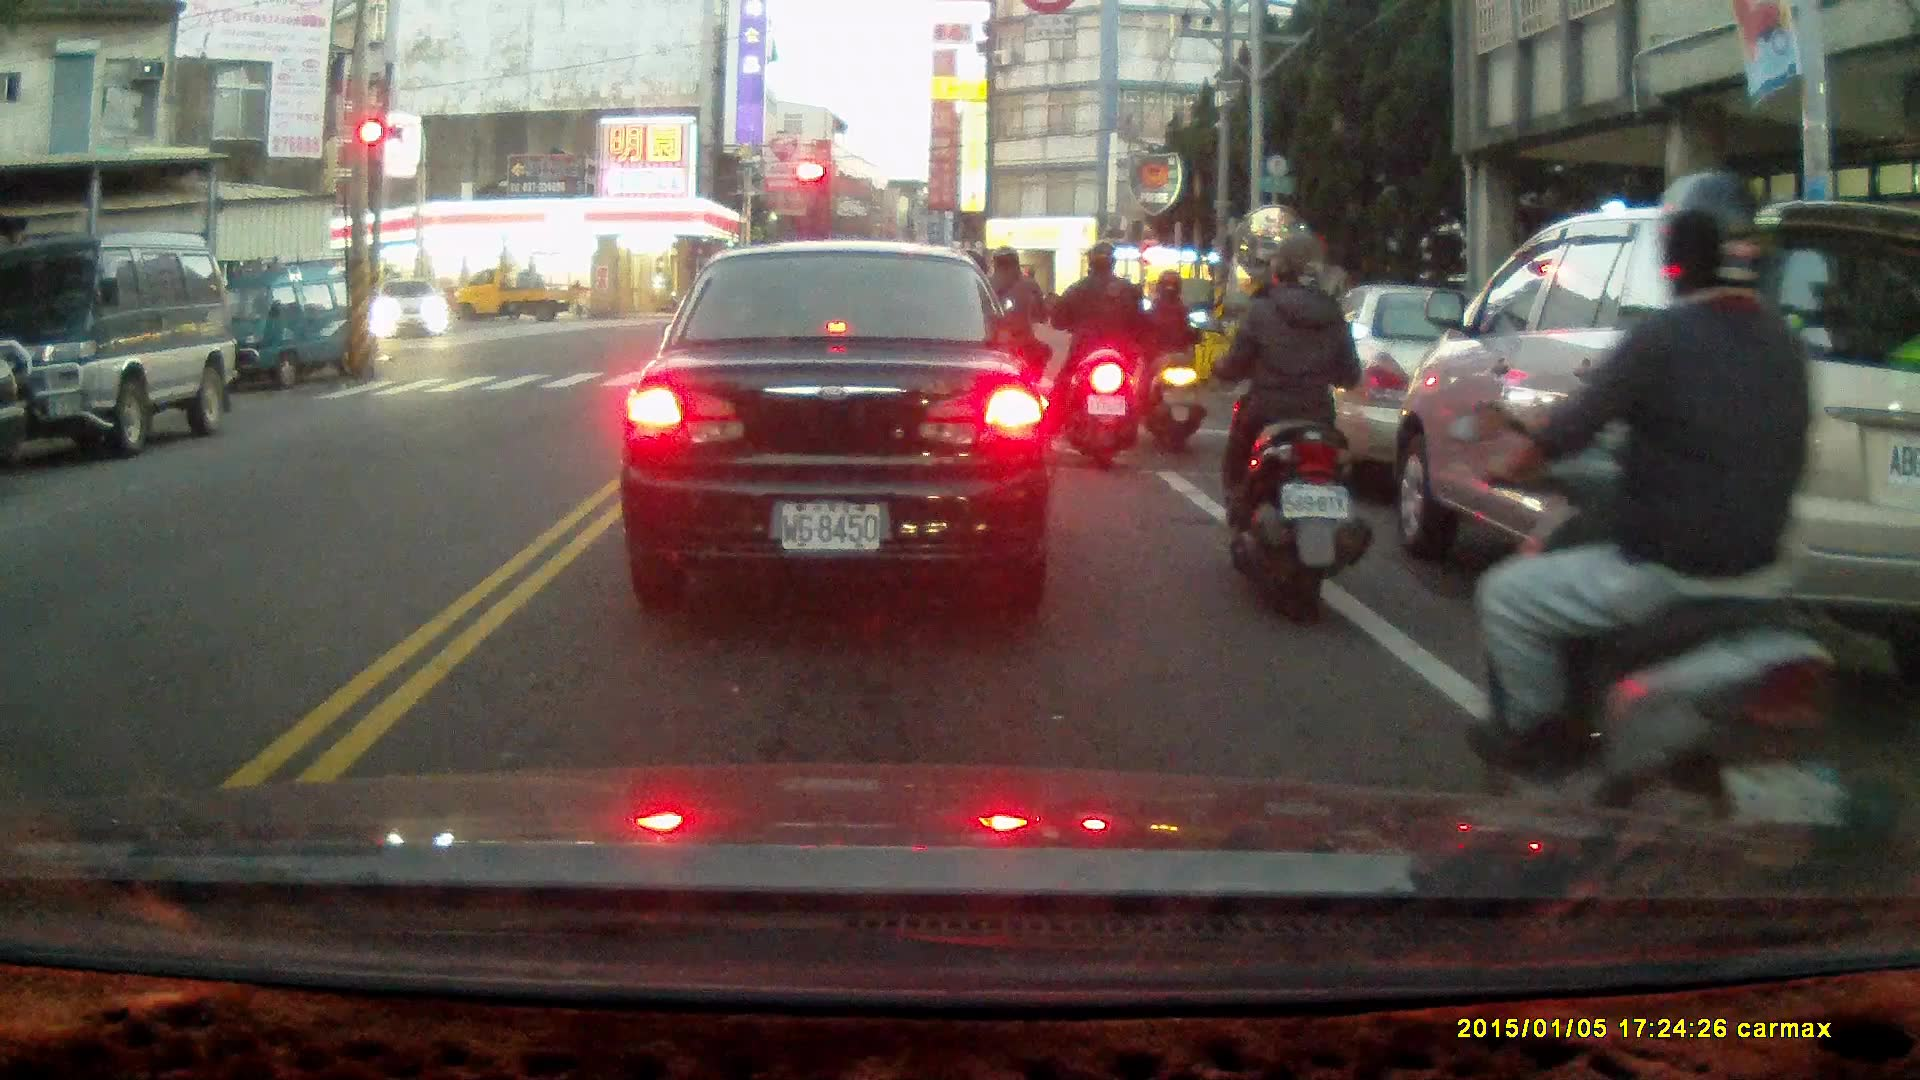rider: (1448, 157, 1863, 885), (1190, 227, 1371, 629), (1048, 243, 1141, 469), (962, 244, 1050, 447), (1134, 269, 1204, 450)
vehicle: (1381, 195, 1920, 685), (617, 243, 1061, 606), (1264, 282, 1583, 492), (1, 234, 239, 458), (194, 255, 381, 395), (446, 265, 578, 327), (372, 277, 451, 343)
